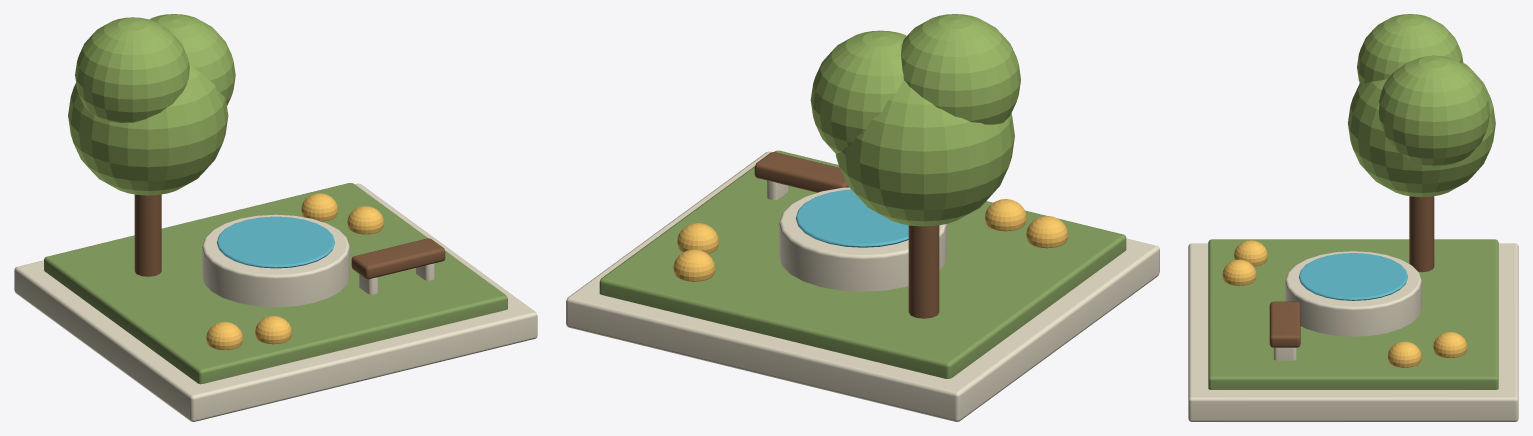
Rendered from SM_Garden_Campus.fbx.
3 views of the same model, side by side, from view 1: azimuth 30°, elevation 25°; view 2: azimuth 150°, elevation 25°; view 3: azimuth 270°, elevation 25° (orthographic). The views are drawn at different scales.
Visible parts, largest first — view 1: SM_Garden_Campus; view 2: SM_Garden_Campus; view 3: SM_Garden_Campus.
Boxes of the visible parts, box(x1,y1,x2,y2) form: SM_Garden_Campus: box(14, 14, 537, 421); SM_Garden_Campus: box(566, 14, 1159, 421); SM_Garden_Campus: box(1188, 14, 1518, 421).
Bounding box in the file's own units: 325 × 290 × 267.
